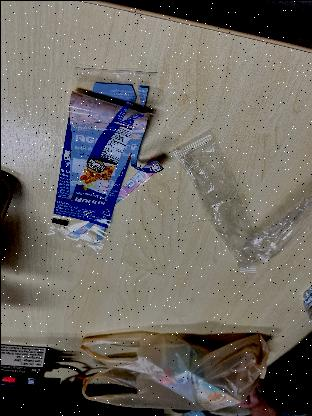Others: (38, 66, 160, 256), (172, 127, 256, 280), (250, 178, 312, 274)
